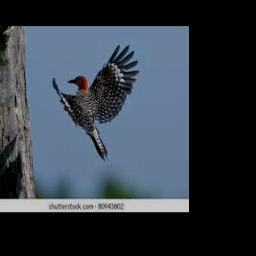Woodpecker: (52, 44, 140, 161)
